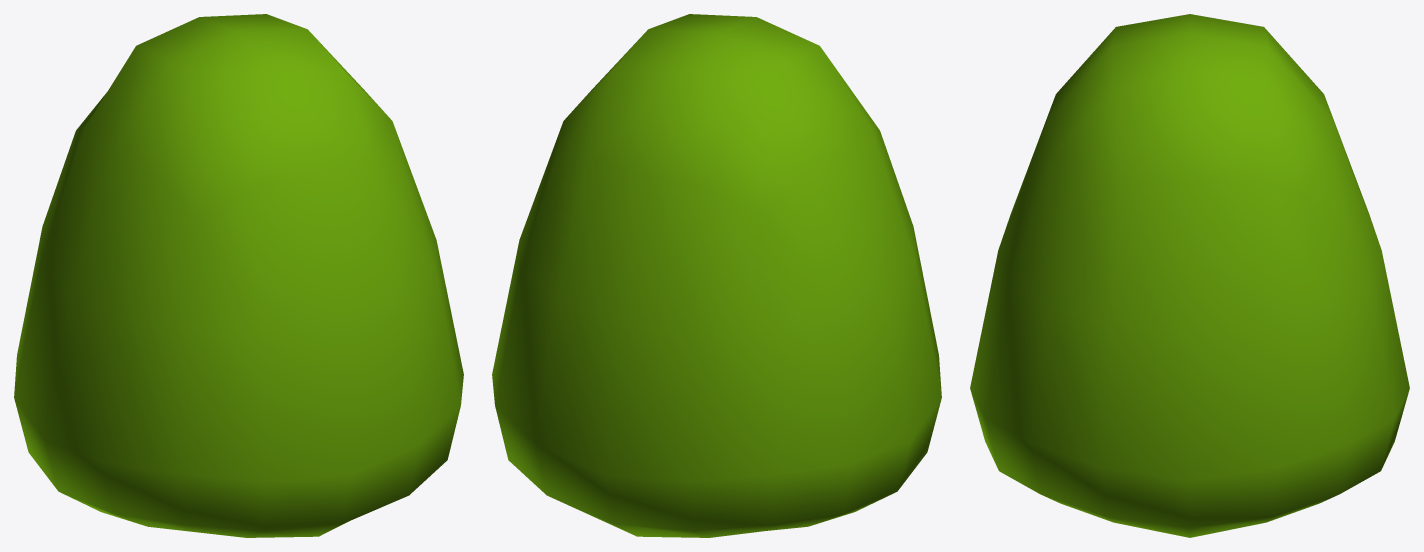
The model's file is Bush_13.fbx.
3 views of the same model, side by side, from view 1: azimuth 30°, elevation 25°; view 2: azimuth 150°, elevation 25°; view 3: azimuth 270°, elevation 25° (orthographic).
Parts seen in each view (by area): view 1: Bush_13; view 2: Bush_13; view 3: Bush_13.
Part boxes in pixels (box(x1,y1,x2,y2)): Bush_13: box(14, 14, 463, 537); Bush_13: box(492, 14, 941, 537); Bush_13: box(970, 14, 1409, 537).
Bounding box in the file's own units: 127 × 145 × 127.
